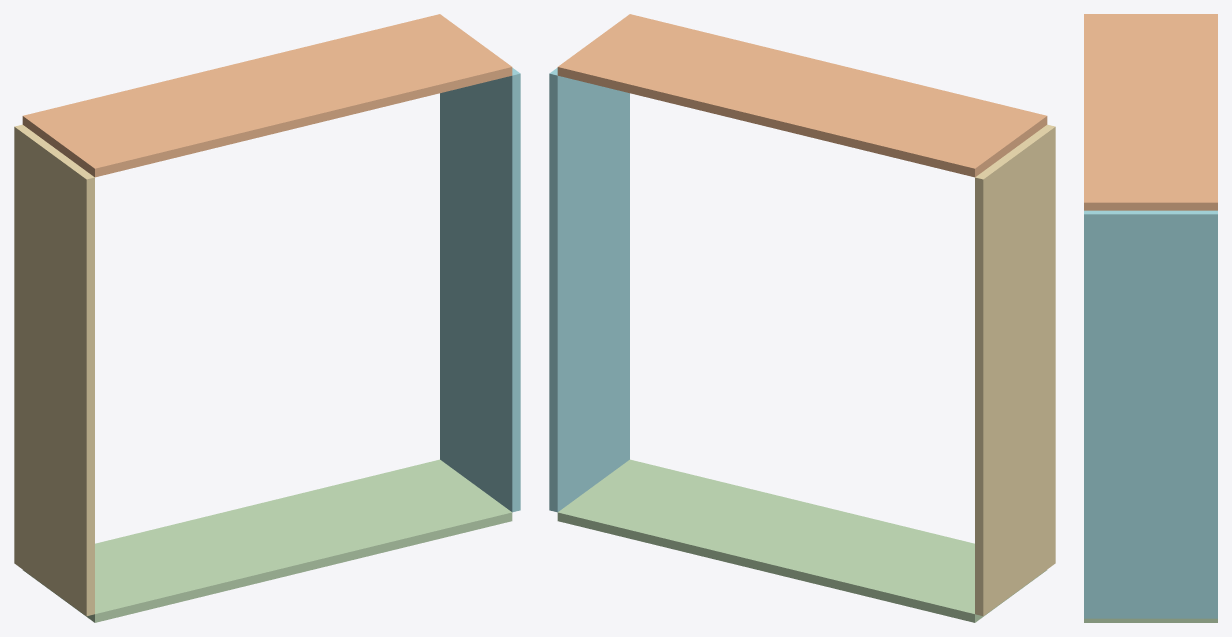
File: tinker.obj
3 renders of one model, left to right at view 1: azimuth 30°, elevation 25°; view 2: azimuth 150°, elevation 25°; view 3: azimuth 270°, elevation 25°, orthographic. The views are drawn at different scales.
Visible parts, largest first — view 1: group_0_16311991, group_0_16500122, group_0_11593967, group_0_13165757; view 2: group_0_16311991, group_0_16500122, group_0_11593967, group_0_13165757; view 3: group_0_11593967, group_0_16500122, group_0_13165757.
Boxes of the visible parts, left/top/right/bottom form: group_0_16311991: left=14, top=124, right=94, bottom=616; group_0_16500122: left=22, top=14, right=512, bottom=177; group_0_11593967: left=440, top=68, right=520, bottom=512; group_0_13165757: left=23, top=459, right=512, bottom=622; group_0_16311991: left=975, top=124, right=1055, bottom=616; group_0_16500122: left=557, top=14, right=1047, bottom=177; group_0_11593967: left=549, top=68, right=629, bottom=512; group_0_13165757: left=557, top=459, right=1046, bottom=622; group_0_11593967: left=1084, top=210, right=1217, bottom=618; group_0_16500122: left=1084, top=14, right=1217, bottom=210; group_0_13165757: left=1084, top=618, right=1217, bottom=622.
Size of the model in its own units: 104 by 104 by 30.
